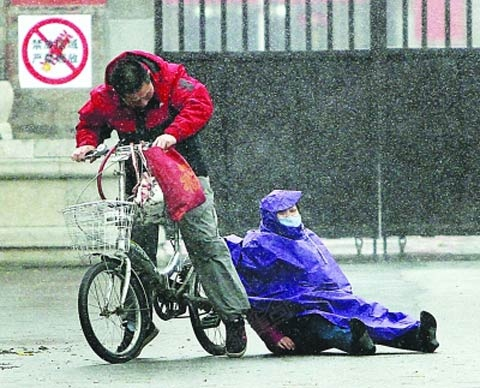fall: (223, 174, 456, 367)
